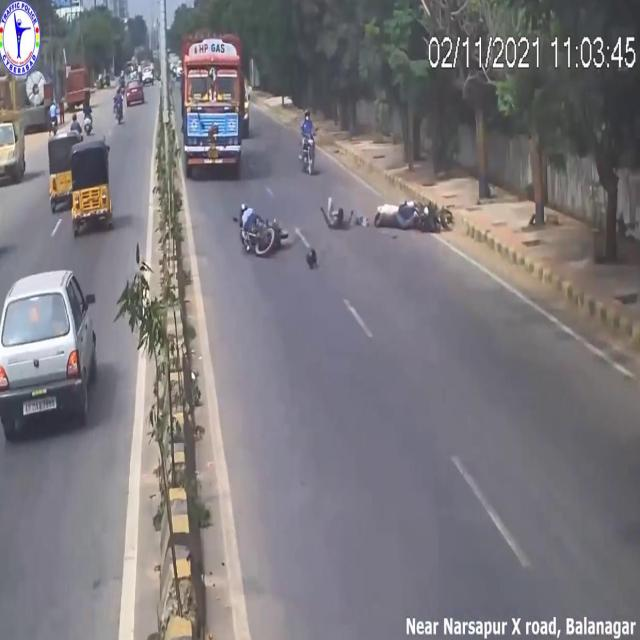accident: (316, 186, 456, 243), (229, 178, 294, 270)
non_accident: (28, 109, 114, 276), (175, 36, 253, 180), (130, 35, 161, 109)
